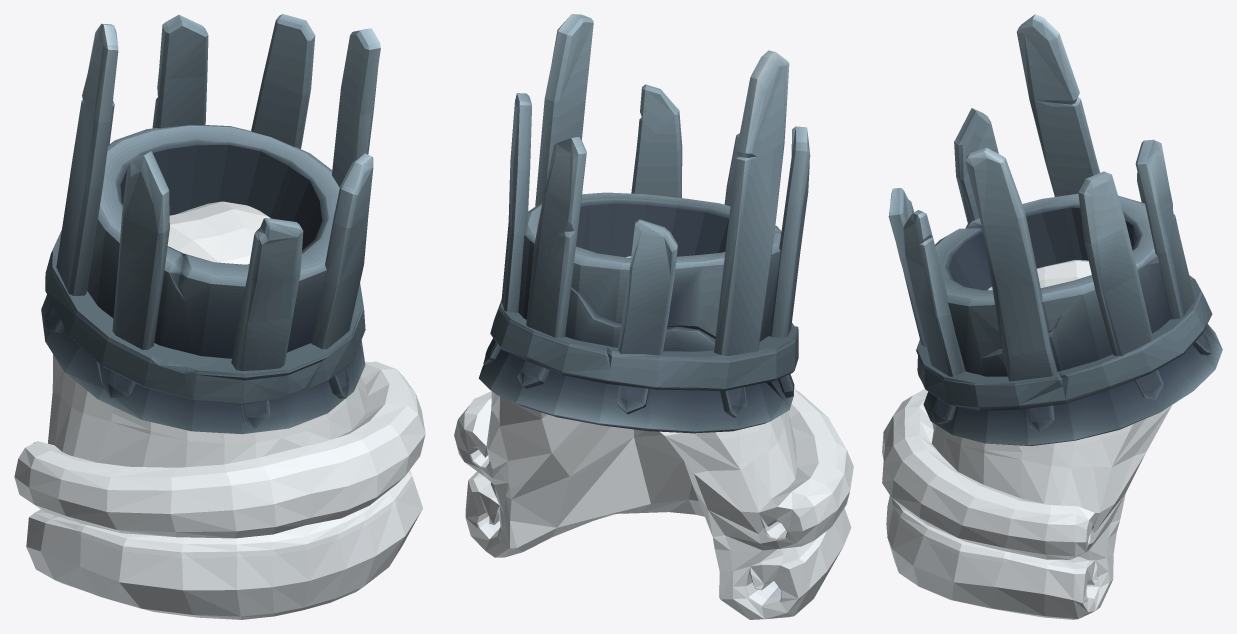
The model's file is CharSkyKid_Hair_AP11Crown_01.glb.
3 renders of one model, left to right at view 1: azimuth 30°, elevation 25°; view 2: azimuth 150°, elevation 25°; view 3: azimuth 270°, elevation 25°, orthographic. The views are drawn at different scales.
Parts seen in each view (by area): view 1: CharSkyKid_Hair_AP11Crown_01; view 2: CharSkyKid_Hair_AP11Crown_01; view 3: CharSkyKid_Hair_AP11Crown_01.
Boxes of the visible parts, bbox=[...] form: CharSkyKid_Hair_AP11Crown_01: bbox=[14, 14, 425, 619]; CharSkyKid_Hair_AP11Crown_01: bbox=[454, 14, 853, 619]; CharSkyKid_Hair_AP11Crown_01: bbox=[882, 14, 1222, 619].
Bounding box in the file's own units: 3.97 × 5.58 × 3.52.
1 material, 1 textured.
